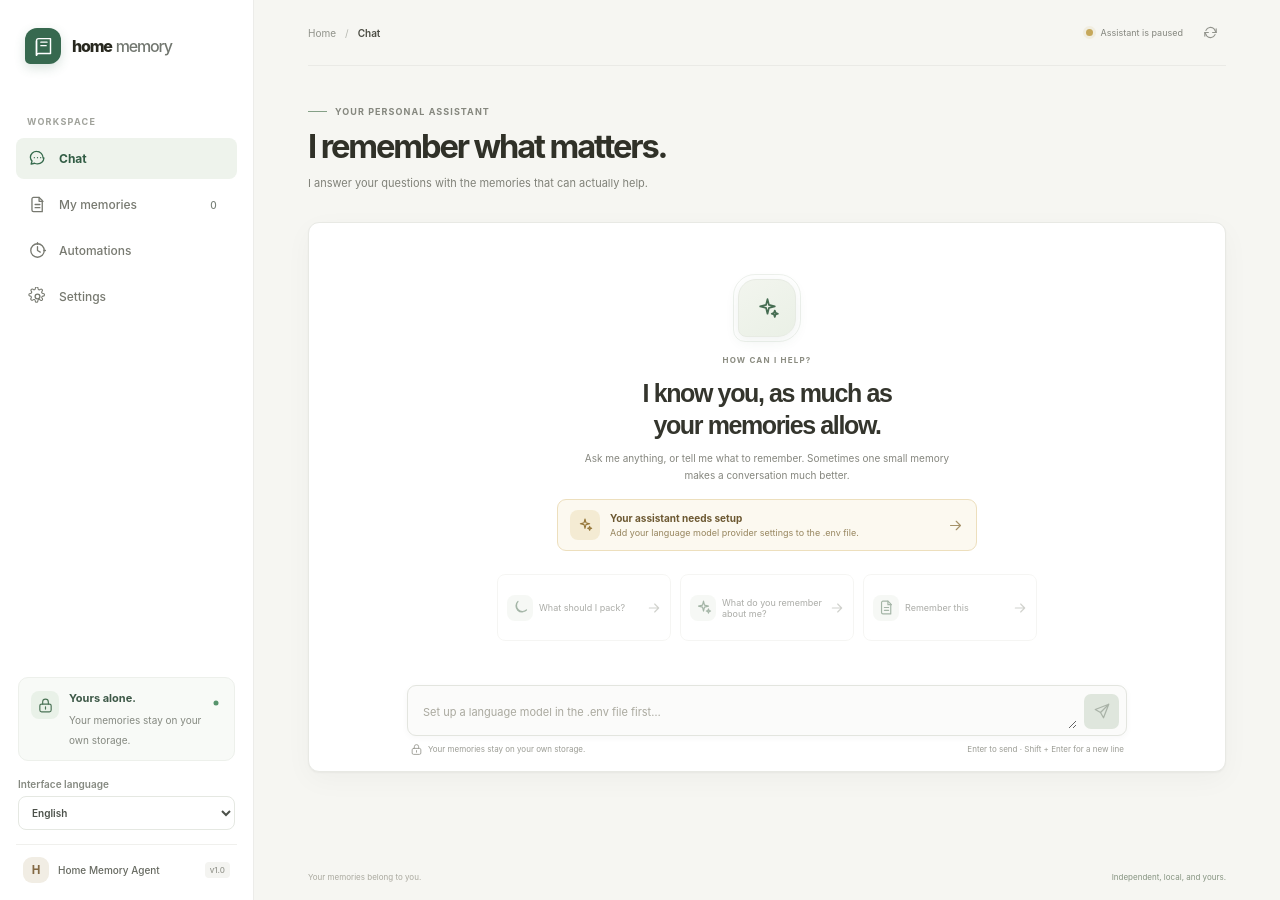
Scenario: Home Memory web interface › shows the tools used alongside the assistant reply in Hungarian
Expected: the heading "I remember what matters." is shown, [308, 126, 666, 166]
Select "Magyar" in the dropdown labelled "Interface language" at [126, 813], box [18, 796, 235, 830]
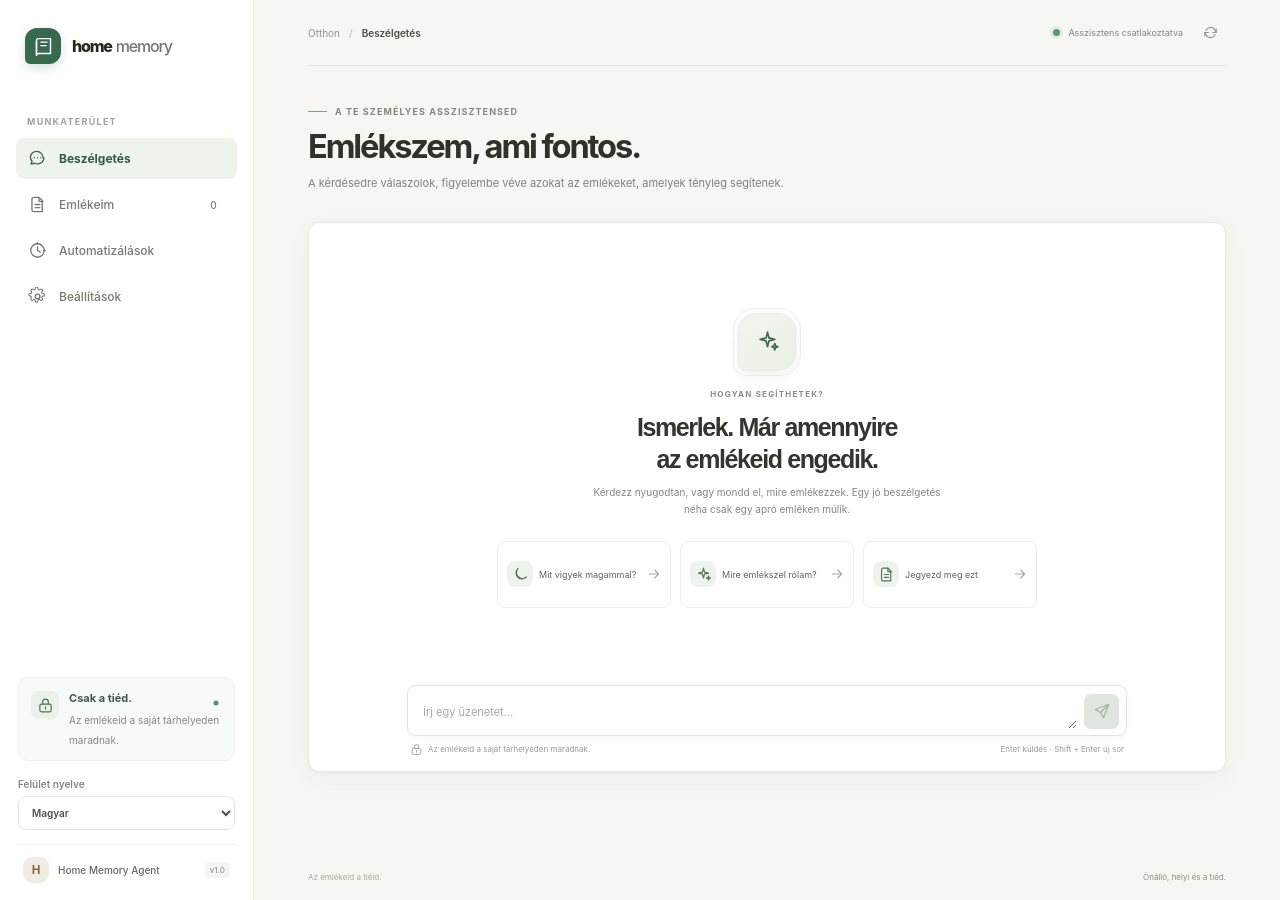
Expected: the heading "Emlékszem, ami fontos." is shown, [308, 126, 640, 166]
Type "What do I prefer?" into the text box named "Üzenet az asszisztensnek" at [750, 711], box [423, 694, 1077, 729]
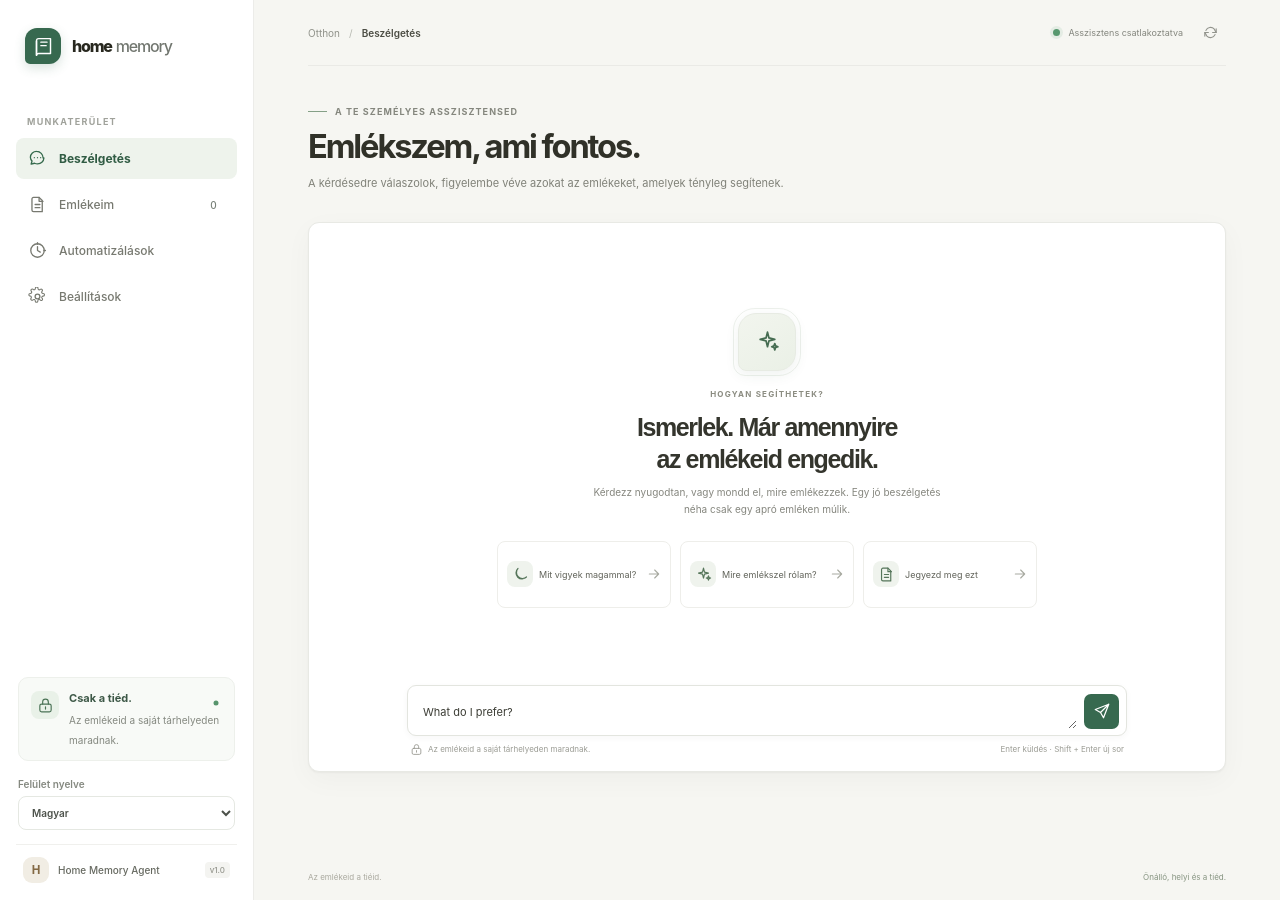
Click the button named "Üzenet küldése" at [1102, 711], box [1084, 694, 1119, 729]
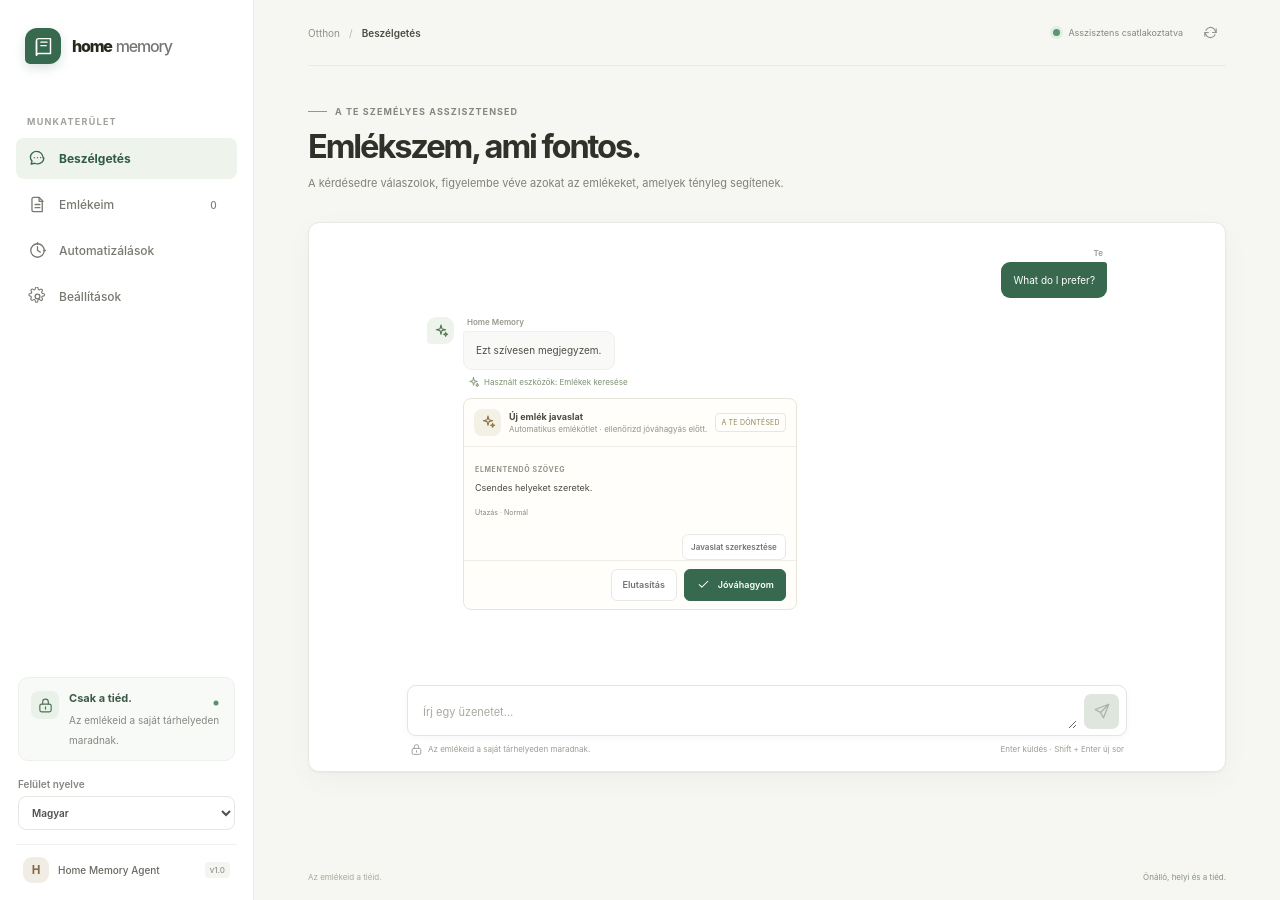
Expected: the text "Használt eszközök: Emlékek keresése" is shown, [467, 376, 628, 389]
